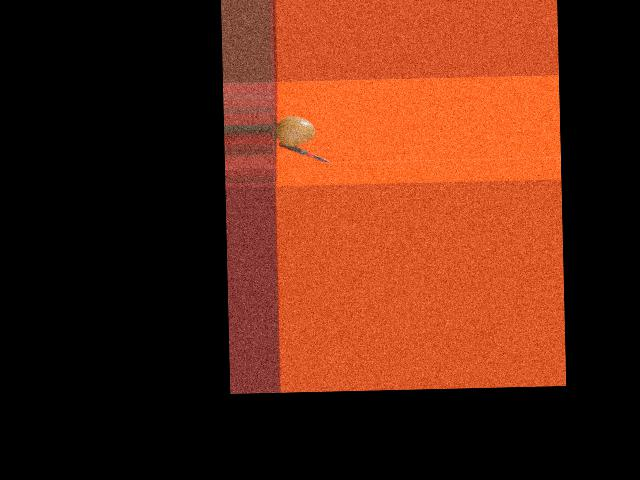egg: (275, 116, 314, 147)
